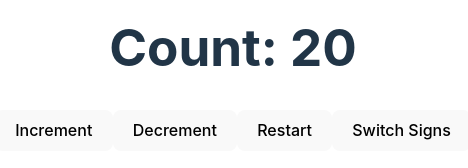
Test case: Counter Component › should decrement one when click at decrement counter
The width and height of the screenshot is (468, 168).
Click the button "Decrement": (175, 130) [112,110,237,151]
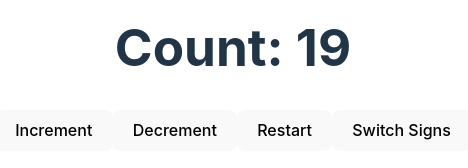
Now the heading "Count: 19" is shown, box [115,16,351,78]
